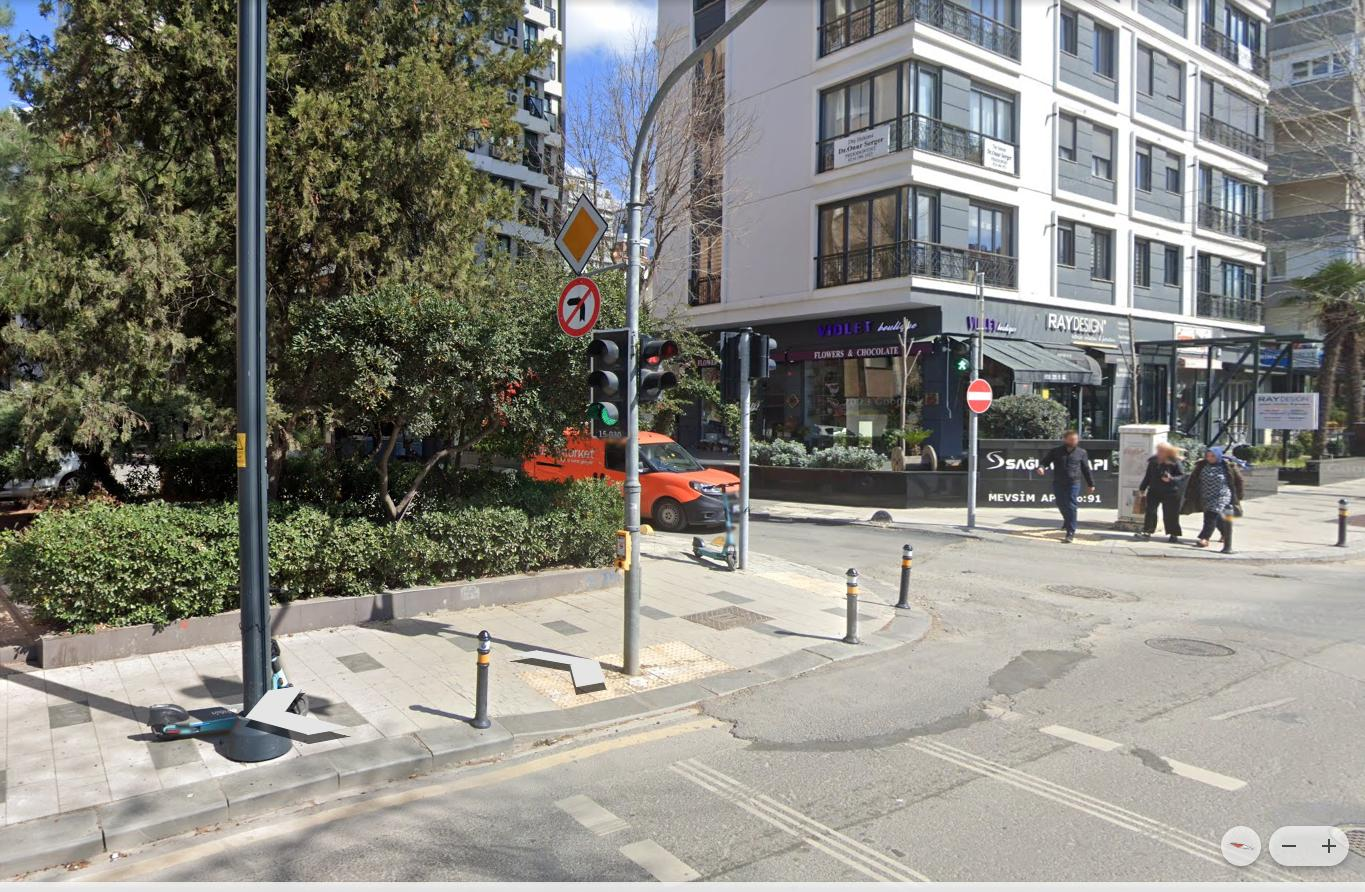leftturnsareforbidden: (561, 278, 599, 336)
